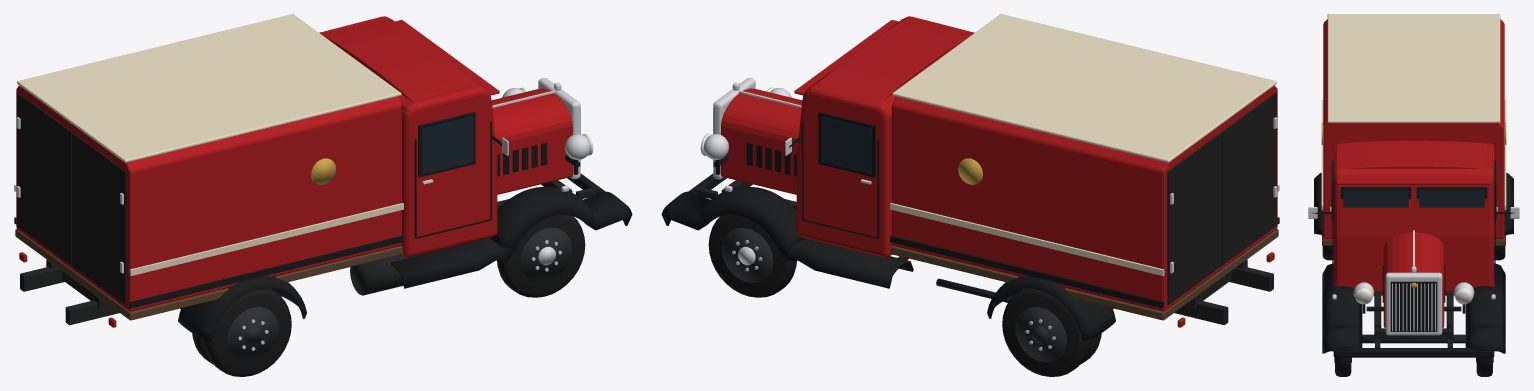
The model's file is mps_mail_truck.glb.
3 views of the same model, side by side, from view 1: azimuth 30°, elevation 25°; view 2: azimuth 150°, elevation 25°; view 3: azimuth 270°, elevation 25° (orthographic). The views are drawn at different scales.
Visible parts, largest first — view 1: bau, teto_bau, cabine, paralama_d.001, porta_t_d, porta_t_e, teto_abaulado, capo, roda_t_pneu0.001, piso, roda_d_pneu0.001, paralama_t.001 (+13 smaller); view 2: bau, teto_bau, cabine, paralama_d, porta_t_e, porta_t_d, teto_abaulado, capo, roda_t_pneu1, piso, roda_d_pneu0, paralama_t (+12 smaller); view 3: teto_bau, cabine, bau, teto_abaulado, paralama_d.001, paralama_d, capo, radiador_colmeia, para_choque, radiador_moldura, parabrisa, parabrisa.001 (+18 smaller).
Part boxes in pixels (x1=…): bau: x1=16, y1=85, x2=401, y2=311; teto_bau: x1=17, y1=14, x2=401, y2=162; cabine: x1=319, y1=16, x2=497, y2=257; paralama_d.001: x1=390, y1=187, x2=632, y2=288; porta_t_d: x1=71, y1=132, x2=126, y2=304; porta_t_e: x1=17, y1=92, x2=71, y2=265; teto_abaulado: x1=321, y1=19, x2=481, y2=107; capo: x1=491, y1=88, x2=572, y2=194; roda_t_pneu0.001: x1=203, y1=288, x2=291, y2=376; piso: x1=15, y1=229, x2=402, y2=320; roda_d_pneu0.001: x1=497, y1=214, x2=585, y2=297; paralama_t.001: x1=178, y1=276, x2=306, y2=341; bau: x1=892, y1=85, x2=1277, y2=311; teto_bau: x1=892, y1=14, x2=1276, y2=162; cabine: x1=796, y1=16, x2=974, y2=257; paralama_d: x1=661, y1=187, x2=913, y2=288; porta_t_e: x1=1167, y1=132, x2=1222, y2=304; porta_t_d: x1=1222, y1=92, x2=1276, y2=265; teto_abaulado: x1=812, y1=19, x2=972, y2=107; capo: x1=721, y1=88, x2=802, y2=194; roda_t_pneu1: x1=1002, y1=288, x2=1090, y2=376; piso: x1=891, y1=229, x2=1278, y2=320; roda_d_pneu0: x1=708, y1=214, x2=796, y2=297; paralama_t: x1=987, y1=276, x2=1115, y2=341; teto_bau: x1=1327, y1=14, x2=1500, y2=122; cabine: x1=1333, y1=143, x2=1494, y2=295; bau: x1=1323, y1=19, x2=1504, y2=239; teto_abaulado: x1=1334, y1=140, x2=1493, y2=170; paralama_d.001: x1=1322, y1=263, x2=1362, y2=353; paralama_d: x1=1465, y1=263, x2=1505, y2=353; capo: x1=1383, y1=232, x2=1444, y2=327; radiador_colmeia: x1=1390, y1=281, x2=1437, y2=331; para_choque: x1=1333, y1=348, x2=1494, y2=357; radiador_moldura: x1=1385, y1=272, x2=1442, y2=335; parabrisa: x1=1419, y1=190, x2=1484, y2=207; parabrisa.001: x1=1343, y1=190, x2=1408, y2=207.
Size of the model in its own units: 5.69 by 2.49 by 2.45.
